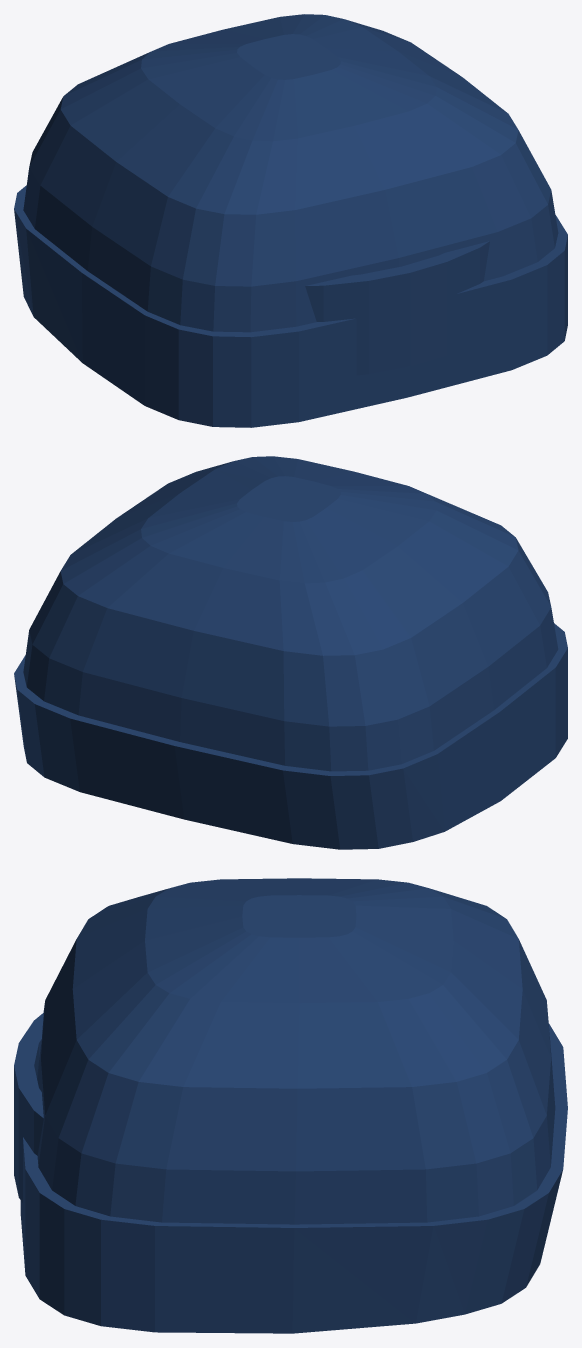
File: hair_boy_bowl_cut_01.glb
3 renders of one model, top to bottom at view 1: azimuth 30°, elevation 25°; view 2: azimuth 150°, elevation 25°; view 3: azimuth 270°, elevation 25°, orthographic. The views are drawn at different scales.
Parts seen in each view (by area): view 1: Bowl_Cap, Bowl_Level_Rim, Bowl_Straight_Fringe; view 2: Bowl_Cap, Bowl_Level_Rim; view 3: Bowl_Cap, Bowl_Level_Rim, Bowl_Straight_Fringe.
Boxes of the visible parts, x1,y1,x2,y2 form: Bowl_Cap: (23,14,558,332); Bowl_Level_Rim: (14,185,567,427); Bowl_Straight_Fringe: (305,241,489,375); Bowl_Cap: (23,456,558,771); Bowl_Level_Rim: (14,623,567,849); Bowl_Cap: (37,878,555,1224); Bowl_Level_Rim: (20,1023,567,1333); Bowl_Straight_Fringe: (14,1012,43,1202).
Size of the model in its own units: 0.338 by 0.196 by 0.33.
